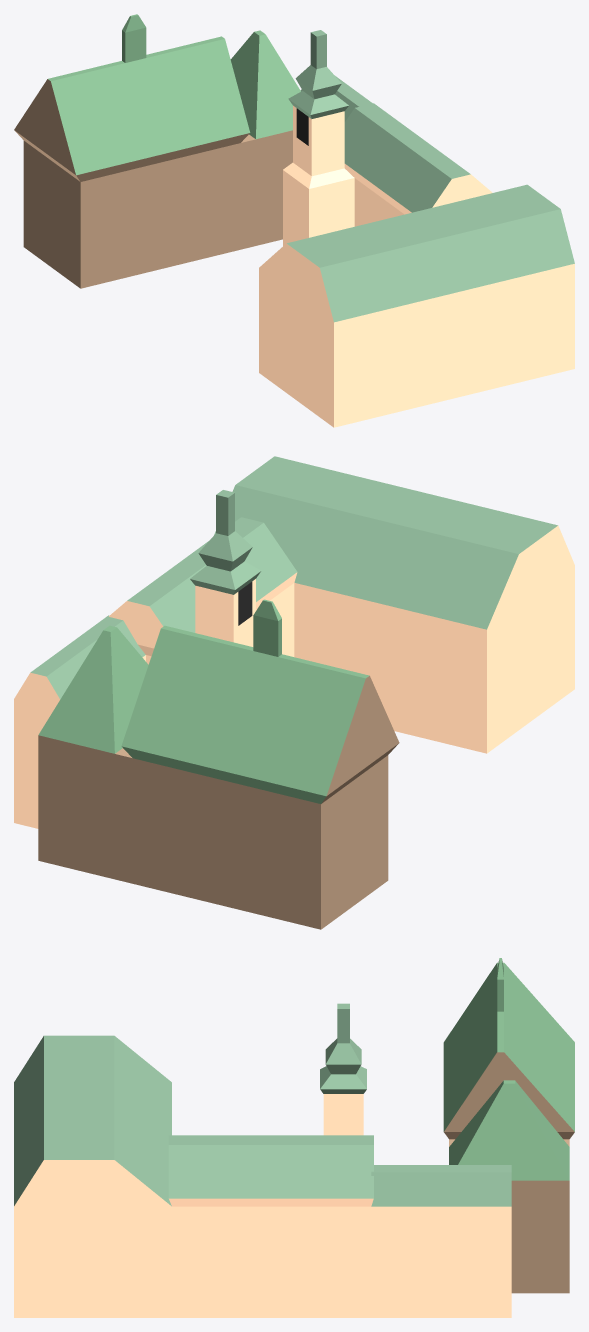
The model's file is klasztor.fbx.
3 renders of one model, top to bottom at view 1: azimuth 30°, elevation 25°; view 2: azimuth 150°, elevation 25°; view 3: azimuth 270°, elevation 25°, orthographic. The views are drawn at different scales.
Visible parts, largest first — view 1: Cube.001, Cube; view 2: Cube.001, Cube; view 3: Cube.001, Cube.
Boxes of the visible parts, x1,y1,x2,y2 form: Cube.001: [259, 30, 574, 427]; Cube: [14, 14, 300, 288]; Cube.001: [14, 456, 574, 828]; Cube: [38, 599, 399, 929]; Cube.001: [14, 1003, 511, 1317]; Cube: [443, 958, 574, 1293].
Size of the model in its own units: 1303 by 1033 by 2020.
